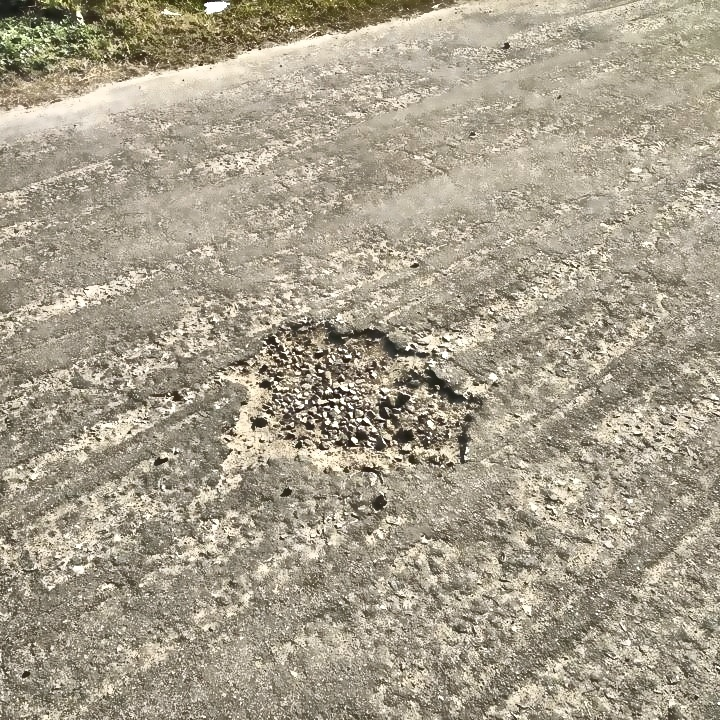pothole: (213, 316, 486, 473)
